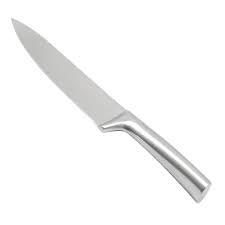Knife: (10, 16, 211, 202)
